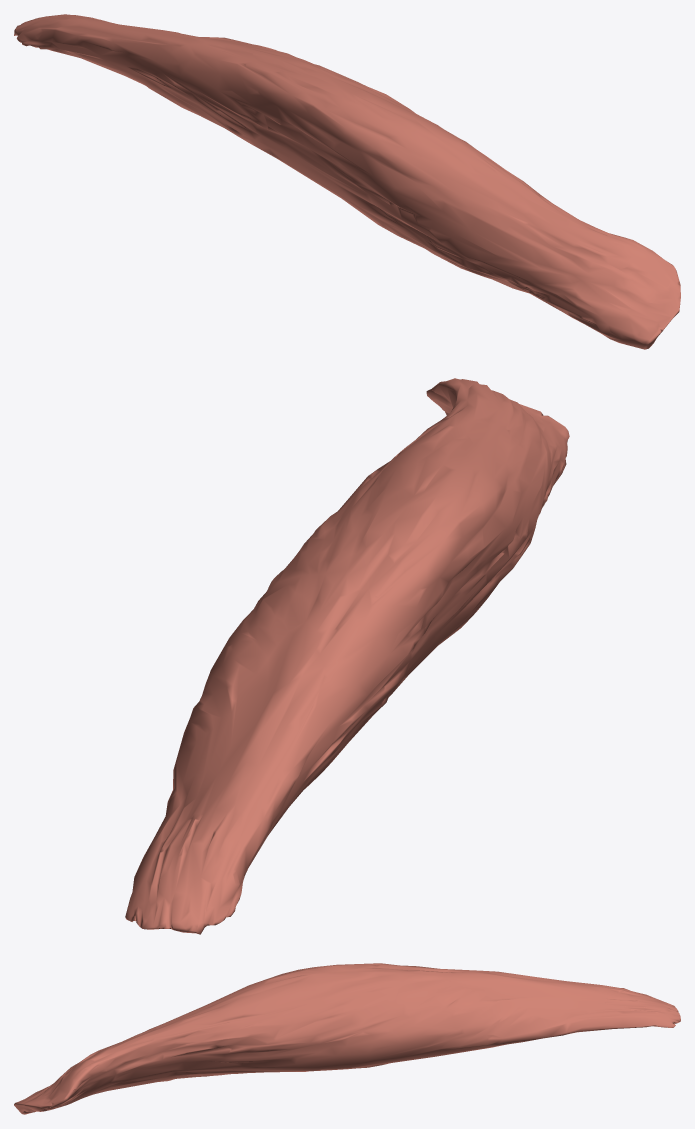
3 views of the same model, one above another, from view 1: azimuth 30°, elevation 25°; view 2: azimuth 150°, elevation 25°; view 3: azimuth 270°, elevation 25° (orthographic). The views are drawn at different scales.
Visible parts, largest first — view 1: 右侧肱三头肌长头; view 2: 右侧肱三头肌长头; view 3: 右侧肱三头肌长头.
Boxes of the visible parts, x1,y1,x2,y2 form: 右侧肱三头肌长头: [14, 14, 680, 349]; 右侧肱三头肌长头: [125, 378, 569, 934]; 右侧肱三头肌长头: [14, 963, 680, 1114].
Size of the model in its own units: 0.1351 by 0.0698 by 0.4009.
